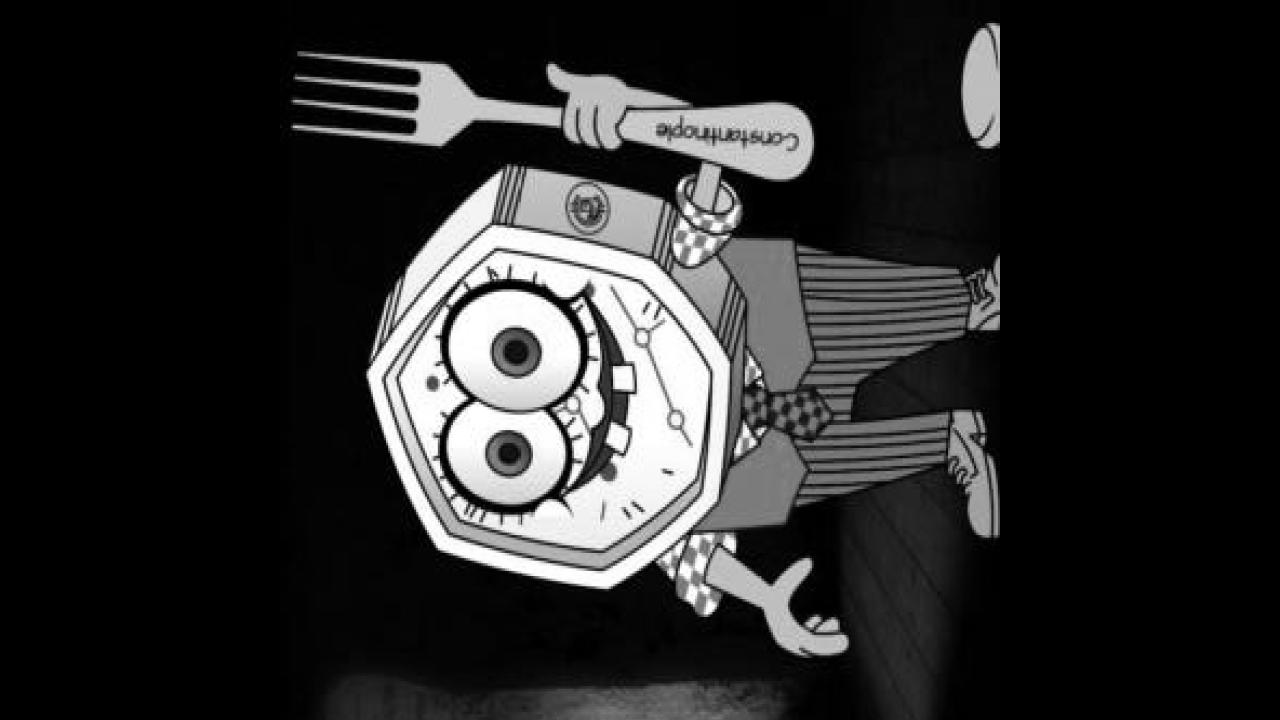fork: (286, 47, 812, 180)
